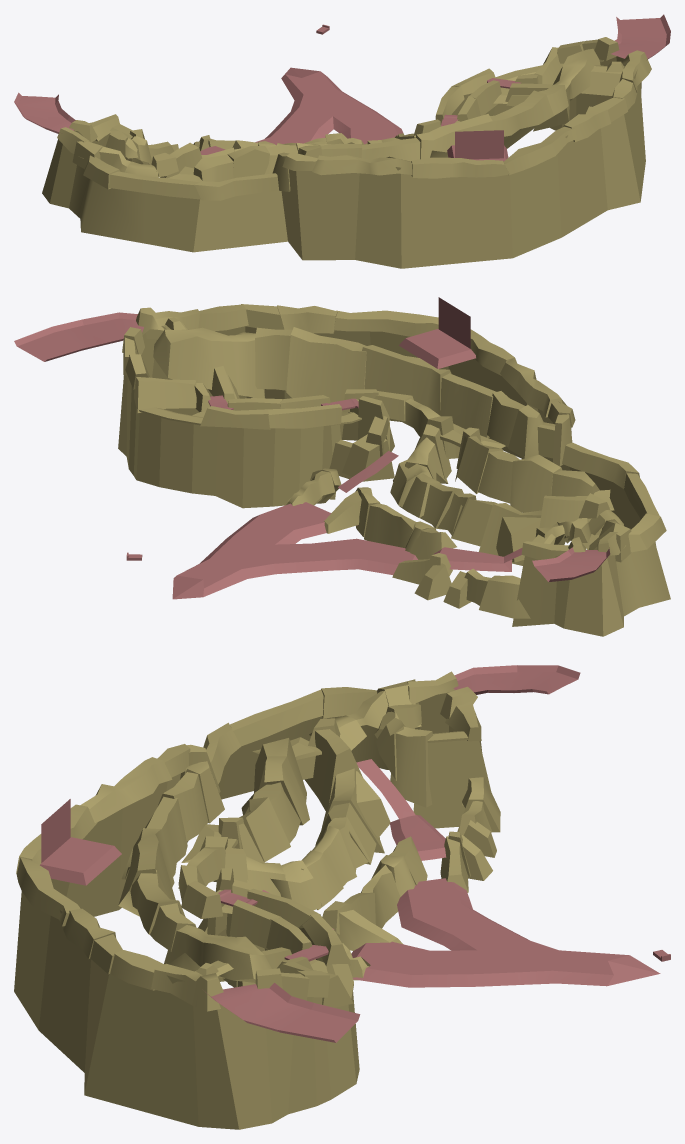
Rendered from Collider.fbx.
The picture shows the model from 3 angles, top to bottom: view 1: azimuth 30°, elevation 25°; view 2: azimuth 150°, elevation 25°; view 3: azimuth 270°, elevation 25°; orthographic projection. The views are drawn at different scales.
Parts seen in each view (by area): view 1: Colliders; view 2: Colliders; view 3: Colliders.
Boxes of the visible parts, <box> form: Colliders: <box>14,14,670,268</box>; Colliders: <box>14,297,670,636</box>; Colliders: <box>14,665,670,1129</box>.
Size of the model in its own units: 111 by 22.12 by 78.35.
